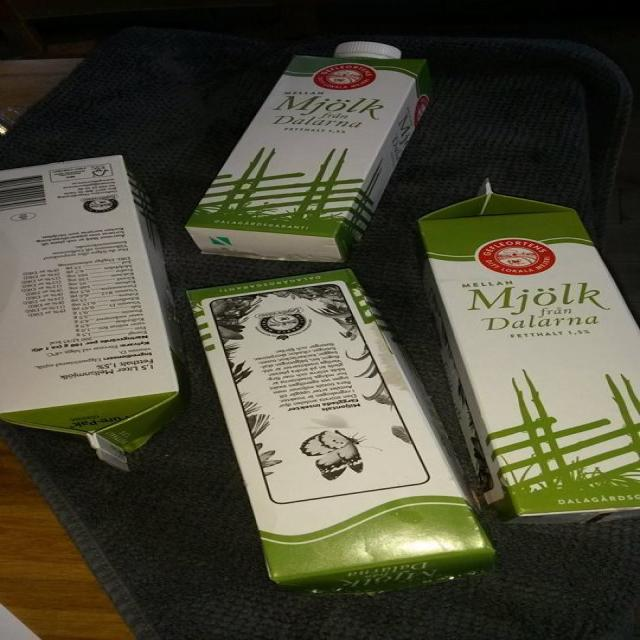cardboard: (190, 264, 498, 618), (411, 173, 640, 532), (0, 149, 183, 465), (186, 42, 432, 264)
